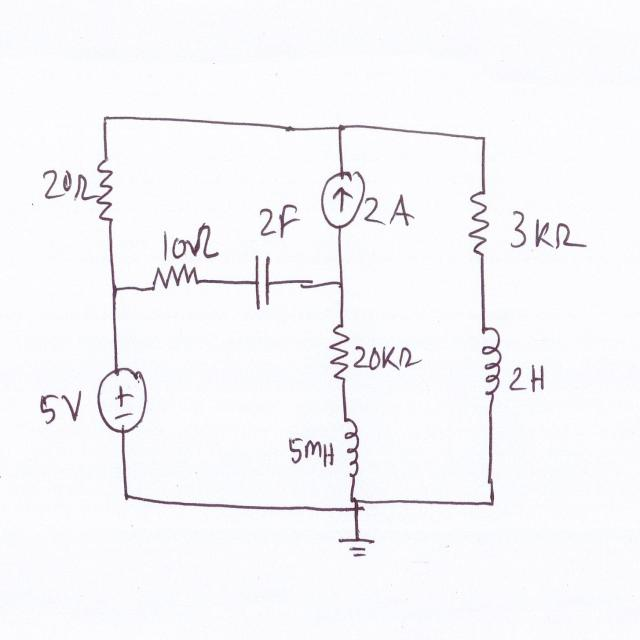ground: (335, 526, 382, 564)
